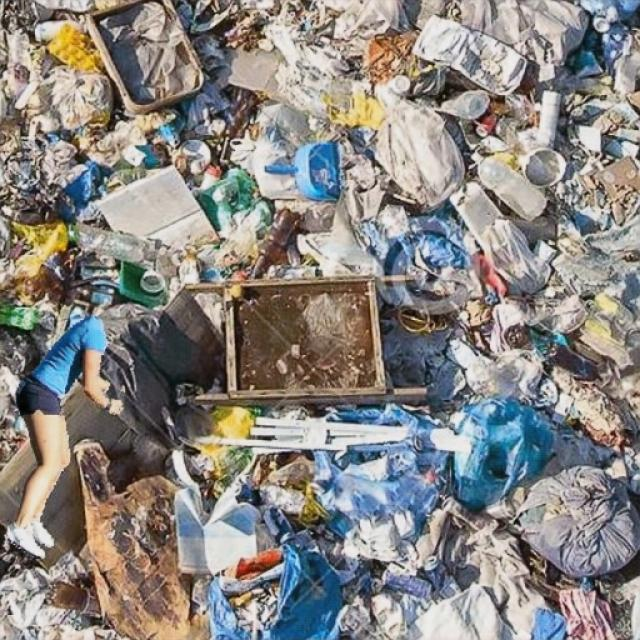Person in Rubble: (8, 314, 124, 558)
